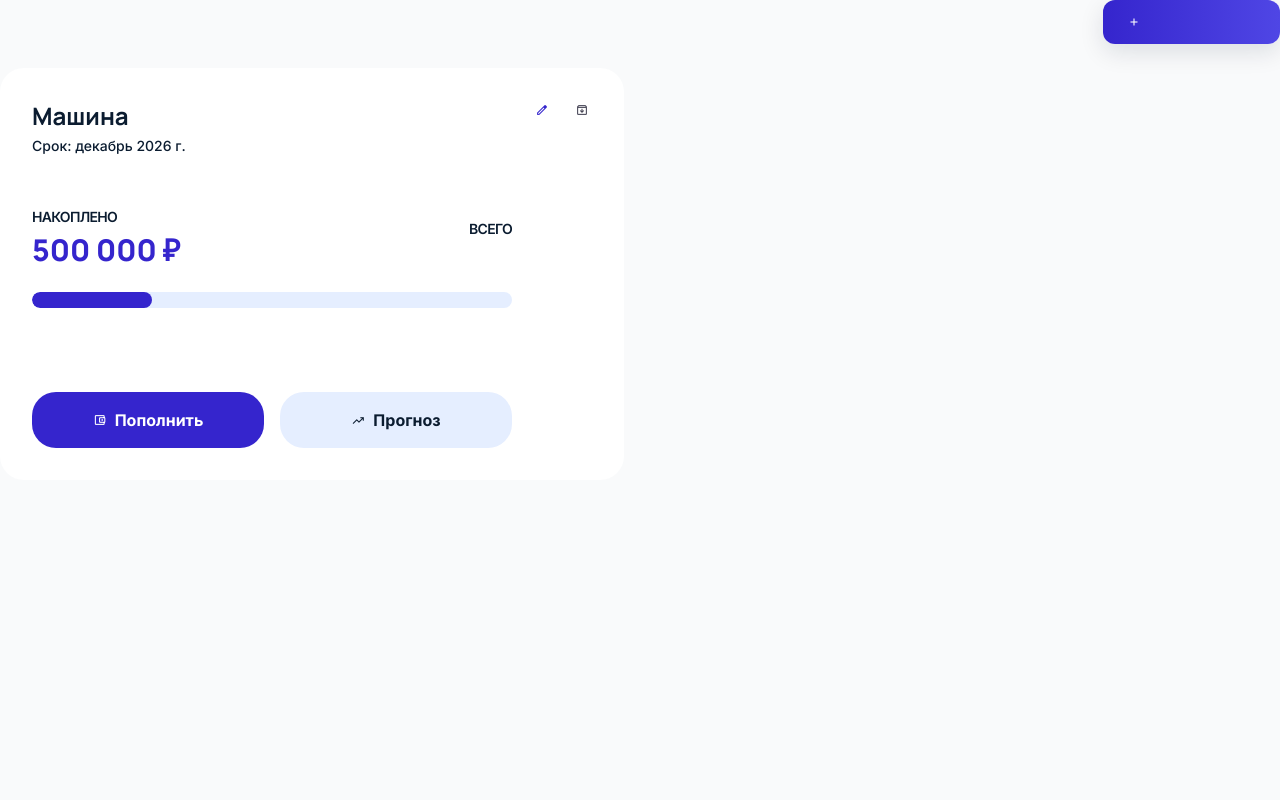
Test: GoalsSection › opens contribute modal when пополнить clicked
This screenshot has width=1280, height=800.
Click the button "Пополнить": (148, 420) [32,392,264,448]
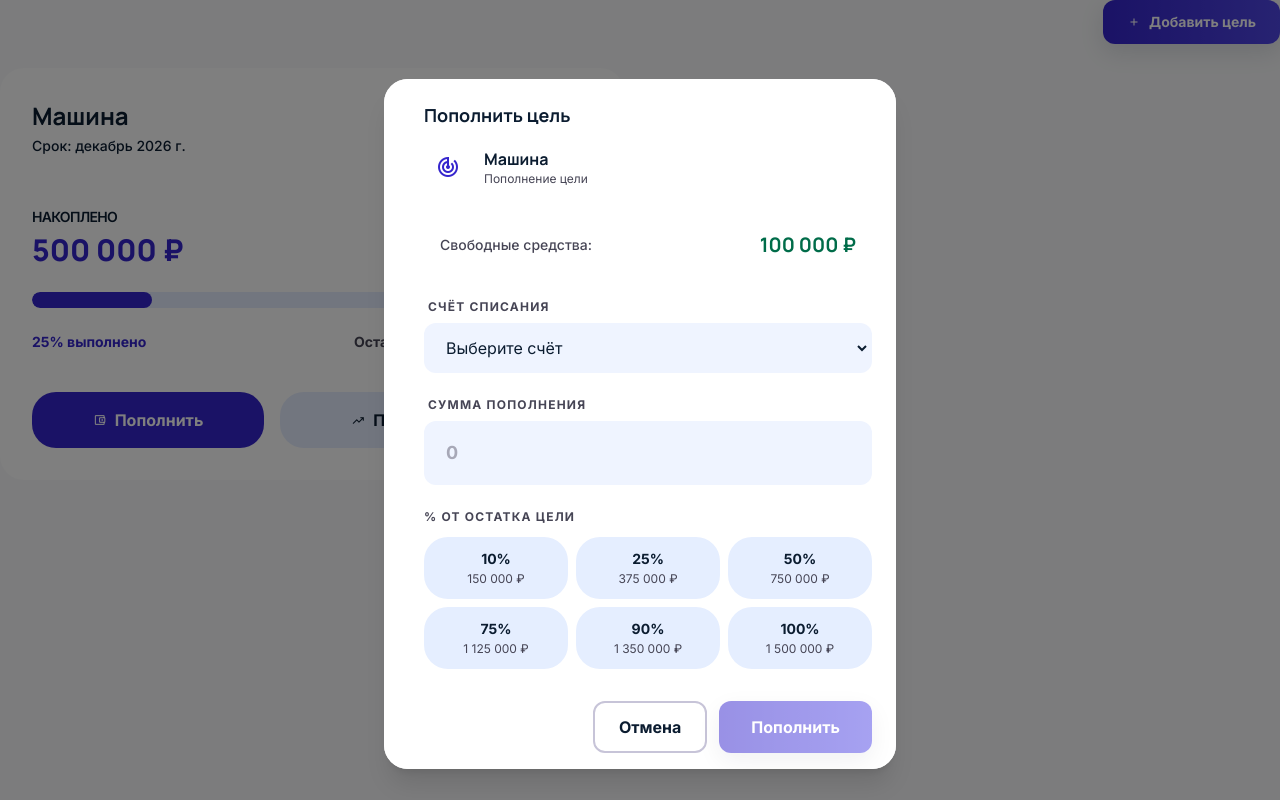
Result: the heading "Пополнить цель" is shown at [424,103,570,127]
